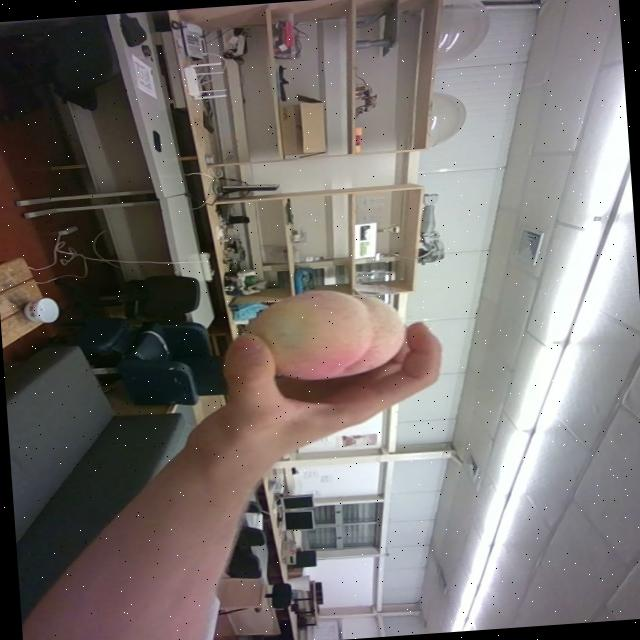peach: (247, 290, 404, 380)
